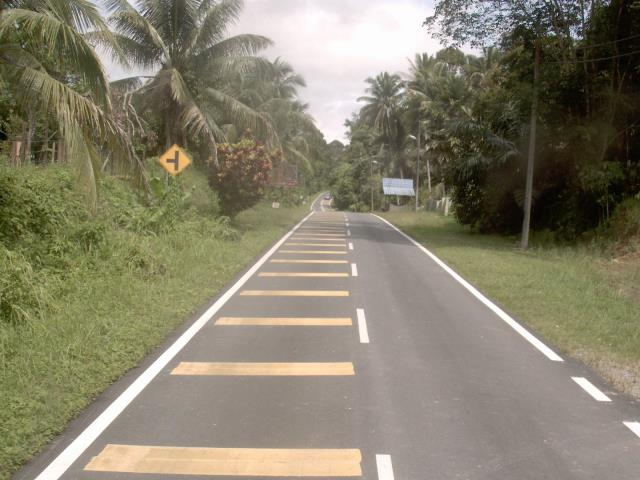traffic_sign: (153, 137, 196, 181)
